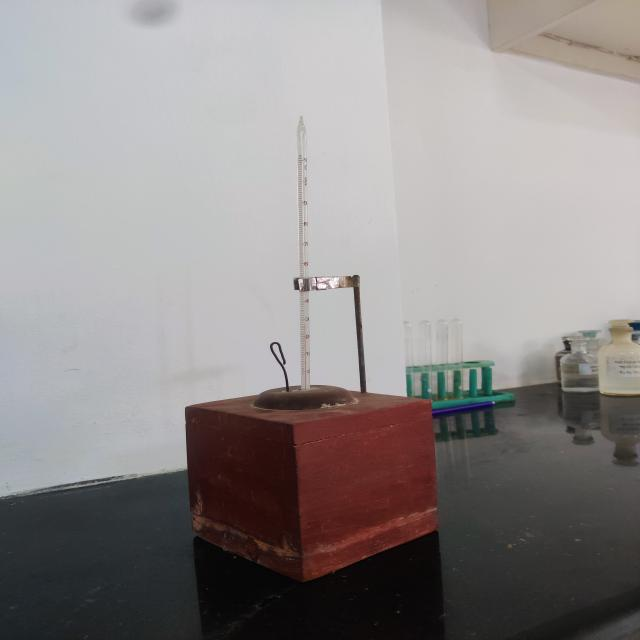Calorimeter: (145, 110, 459, 598)
